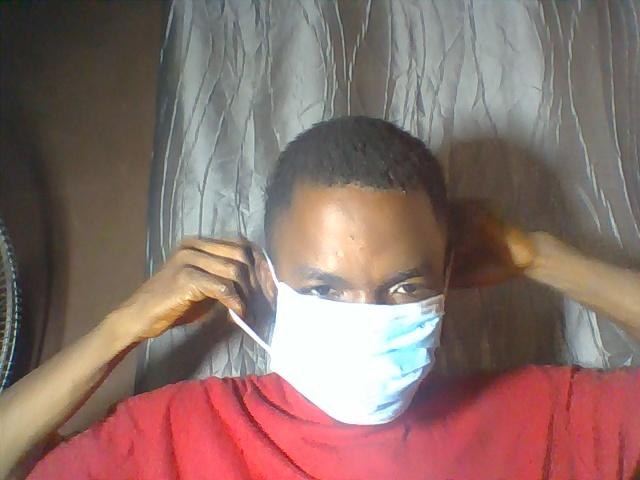MaskOff: (218, 112, 538, 424)
